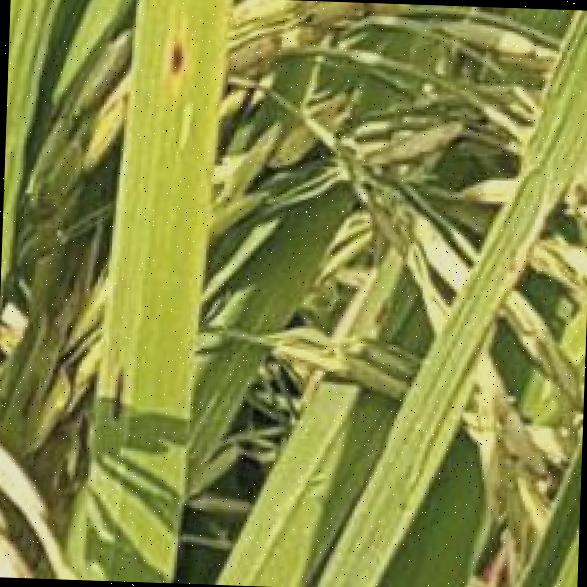Brown_Spot: (154, 26, 188, 95), (105, 350, 134, 427)
